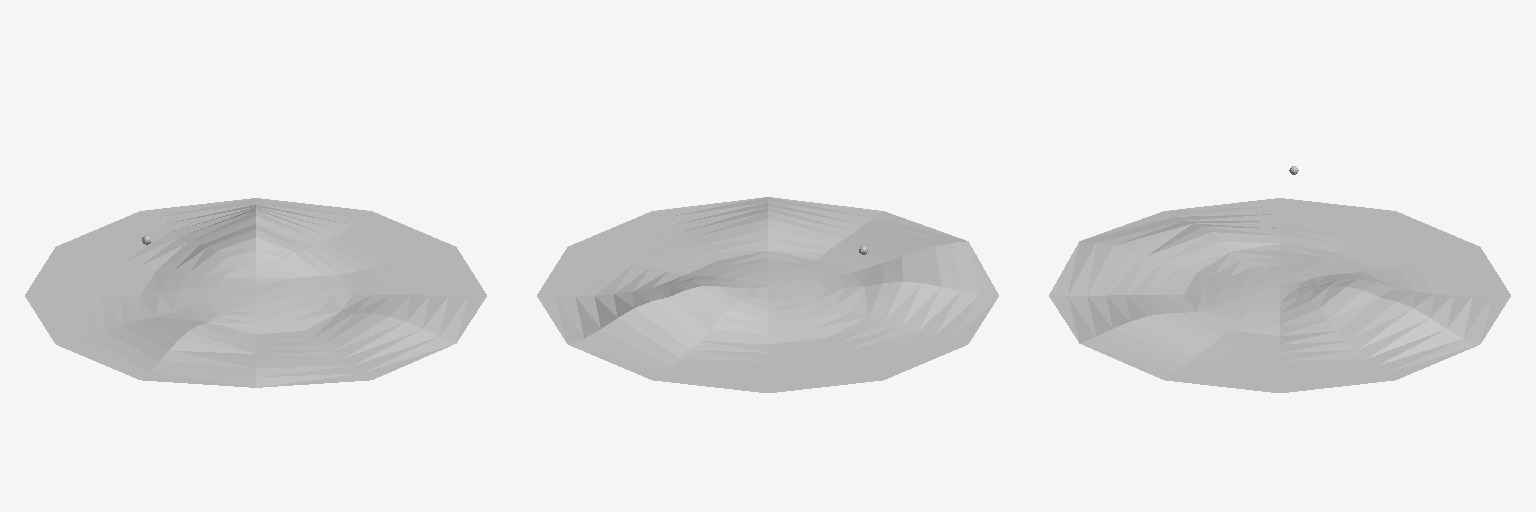
The model's file is snow.obj.
3 views of the same model, side by side, from view 1: azimuth 30°, elevation 25°; view 2: azimuth 150°, elevation 25°; view 3: azimuth 270°, elevation 25° (orthographic).
Size of the model in its own units: 3.74 by 0.7076 by 3.74.